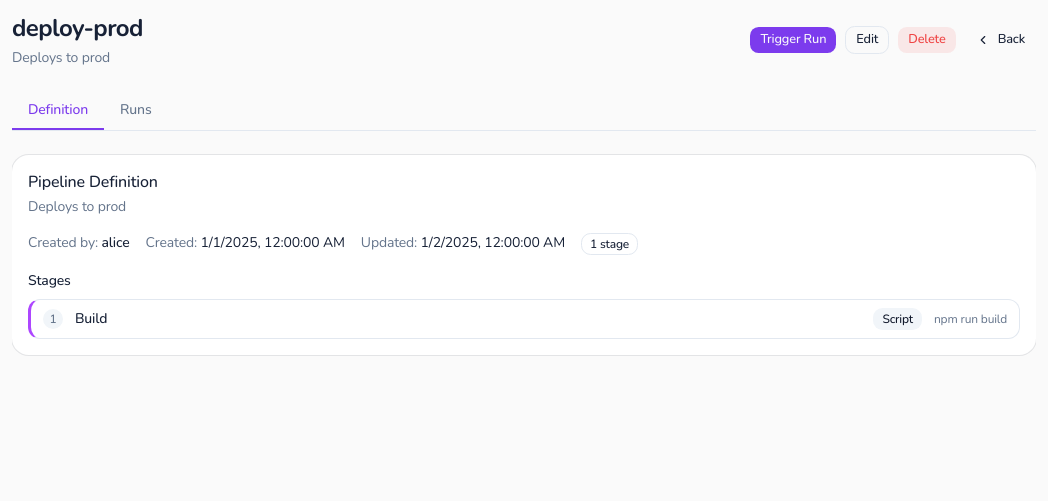
Scenario: next/dynamic — heavy component lazy-loading › D. PipelineDetailClient — renders correctly with stubbed dynamic panels › switching to the Runs tab renders Run History heading (RunStatsPanel stub is silent)
Expected: the heading "deploy-prod" is shown, [12,12,143,44]
Note: The Runs tab mounts RunStatsPanel (stub → null) and RunList
Click the button "Runs".
click(136, 111)  # box [104,92,168,130]
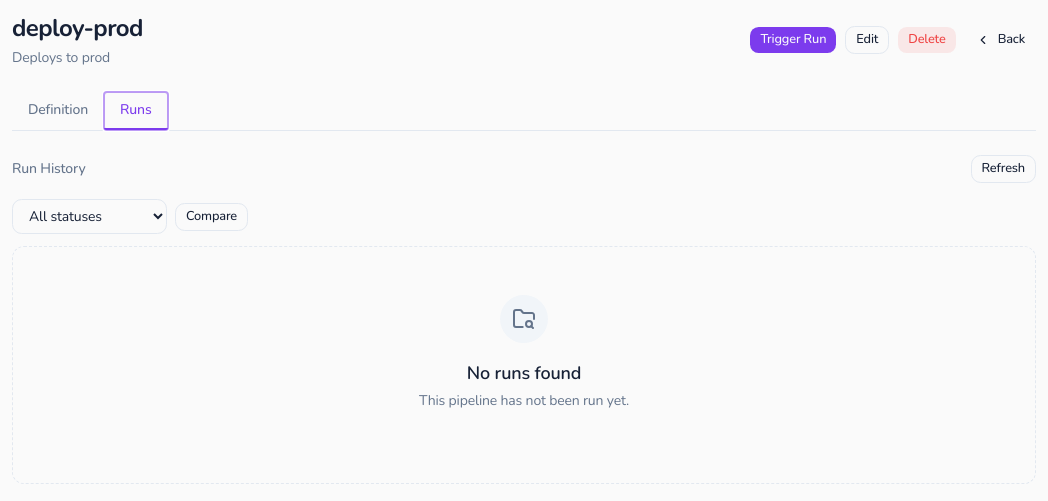
Expected: the heading "Run History" is shown, [12,159,86,179]
